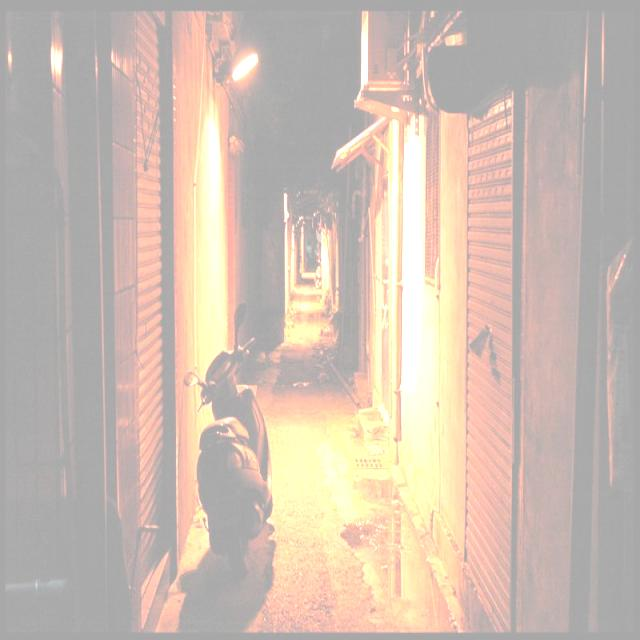Motorbike: (172, 293, 290, 581)
